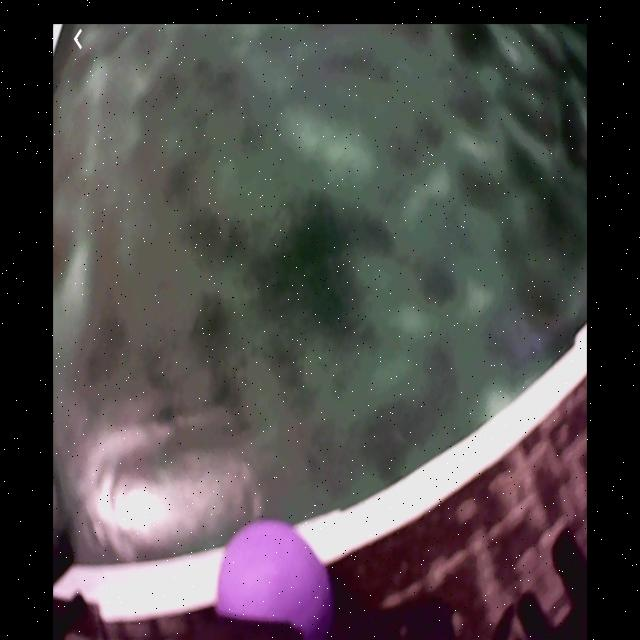ball: (214, 521, 340, 639)
